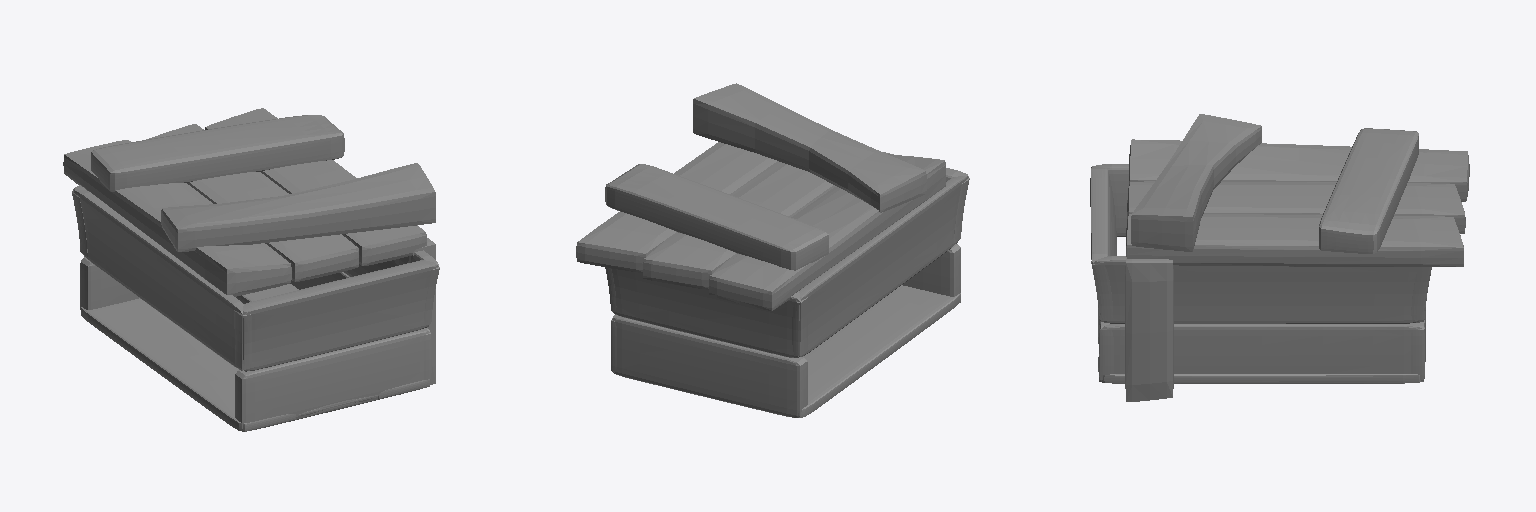
File: crate.obj
3 renders of one model, left to right at view 1: azimuth 30°, elevation 25°; view 2: azimuth 150°, elevation 25°; view 3: azimuth 270°, elevation 25°, orthographic.
Parts seen in each view (by area): view 1: Box264; view 2: Box264; view 3: Box264.
Boxes of the visible parts, x1=… form: Box264: x1=63, y1=108, x2=439, y2=431; Box264: x1=576, y1=83, x2=969, y2=417; Box264: x1=1090, y1=114, x2=1469, y2=401.
Bounding box in the file's own units: 12.85 × 10.01 × 17.81.